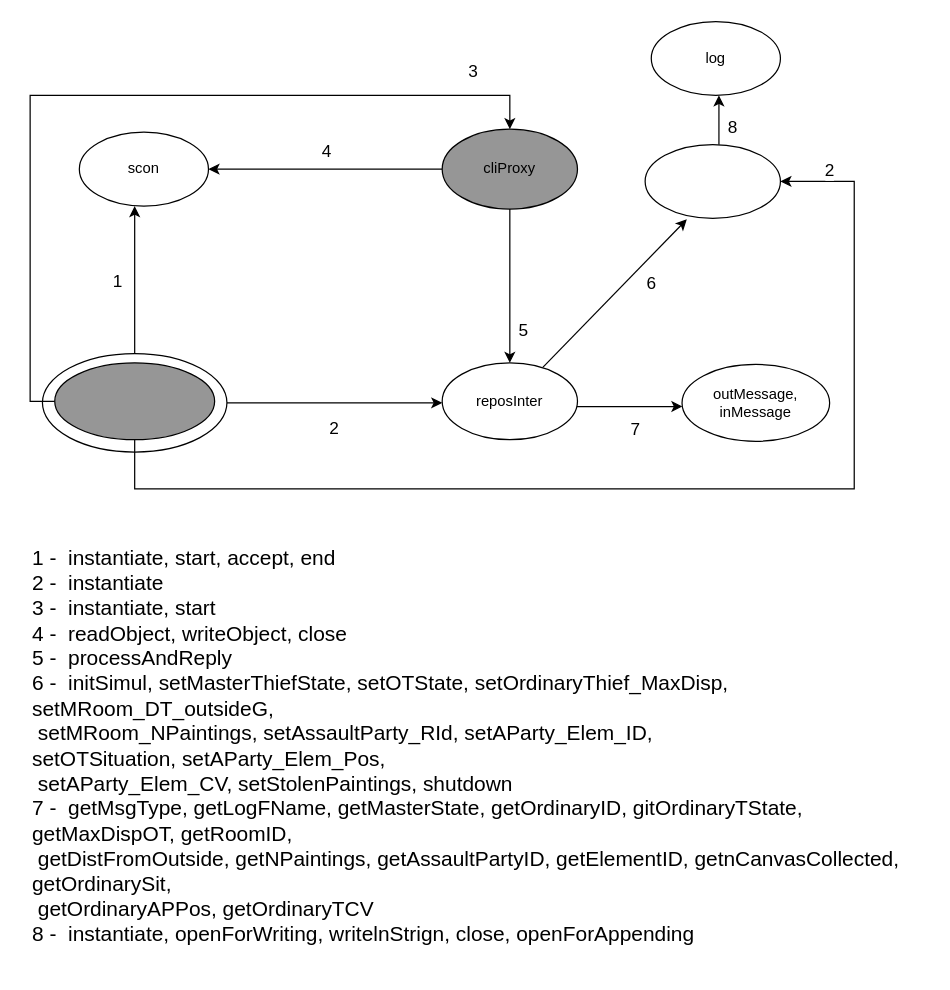
Image size: 950x990. Some labels were removed from this diagram. The centre of each missing label's shape, as x and y in pixels:
"repos" goes at pixel 712 180.
"ServerHeistMuseum GeneralRepos" goes at pixel 134 401.
